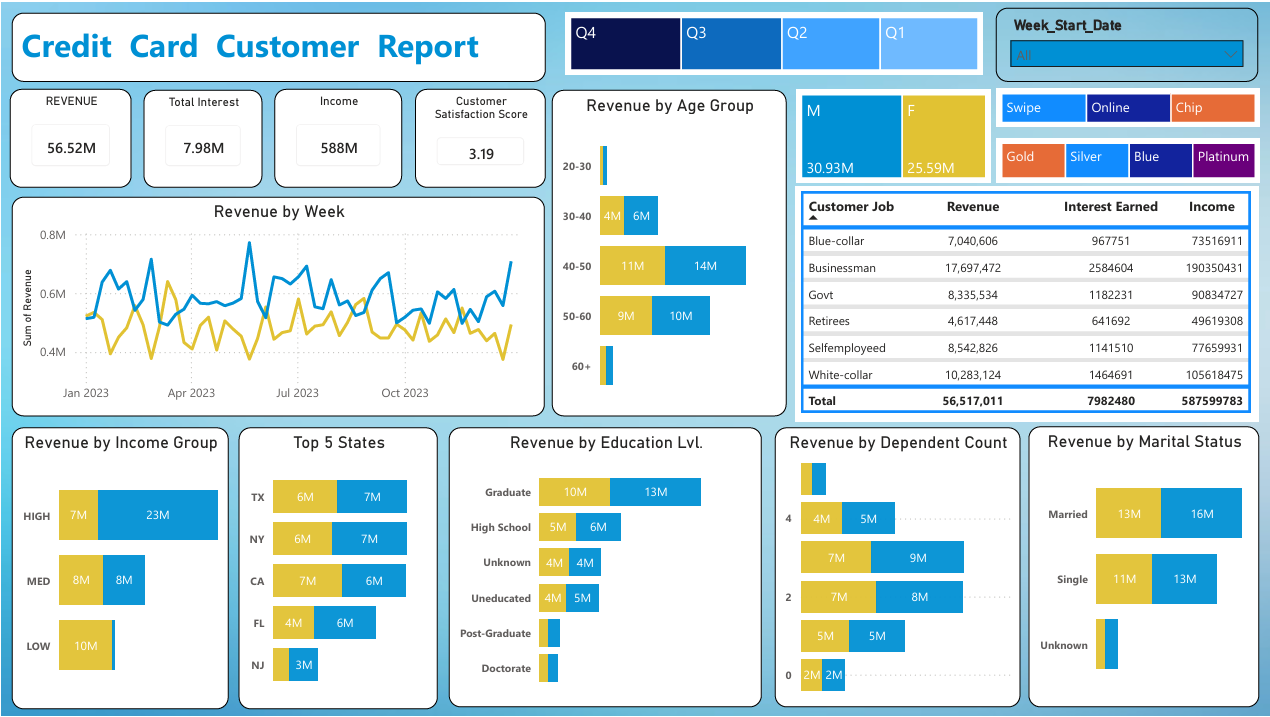

This screenshot's page, from the dashboard's own definition file:
{"tool":"powerbi","page":{"name":"Customer_Weekly_Report","canvas":[1280,720],"ordinal":1},"visuals":[{"type":"textbox","box":[10,10,538.6,70],"z":0},{"type":"barChart","title":"Revenue by Income Group","fields":{"Y":["Sum(public cc_detail.Revenue)"],"Category":["public cust_detail.IncomeGroup"],"Series":["public cust_detail.gender"]},"box":[10,428.8,218.8,285],"z":1000},{"type":"cardVisual","title":"REVENUE","fields":{"Data":["Sum(public cc_detail.Revenue)"]},"box":[8,87.3,122.7,99.3],"z":2000},{"type":"cardVisual","title":"Income","fields":{"Data":["Sum(public cust_detail.income)"]},"box":[275.3,87.3,128.7,99.3],"z":3000},{"type":"cardVisual","title":"Total Interest","fields":{"Data":["Sum(public cc_detail.interest_earned)"]},"box":[142.7,88,120,98.7],"z":4000},{"type":"cardVisual","title":"Customer Satisfaction Score","fields":{"Data":["Avg(public cust_detail.cust_satisfaction_score)"]},"box":[417.1,87.1,131.4,100],"z":5000},{"type":"slicer","fields":{"Values":["public cc_detail.WeekStartMonday"]},"box":[1003.3,5,265,75],"z":6000},{"type":"treemap","fields":{"Group":["public cc_detail.qtr"],"Values":["Avg(public cc_detail.client_num)"]},"box":[569.1,10,420.9,62.7],"z":7000},{"type":"treemap","fields":{"Group":["public cc_detail.use_chip"],"Values":["Avg(public cc_detail.client_num)"]},"box":[1002.5,87.5,266.7,39.2],"z":8000},{"type":"treemap","fields":{"Group":["public cc_detail.card_category"],"Values":["Avg(public cc_detail.client_num)"]},"box":[758.8,72.5,266.2,43.8],"z":9000},{"type":"tableEx","fields":{"Values":["public cust_detail.customer_job","Sum(public cc_detail.Revenue)","Sum(public cc_detail.interest_earned)","Sum(public cust_detail.income)"]},"box":[768,196,512,264],"z":10000},{"type":"lineChart","title":"Revenue by Week","fields":{"Y":["Sum(public cc_detail.Revenue)"],"Series":["public cust_detail.gender"],"Category":["public cc_detail.week_start_date.Variation.Date Hierarchy.Year","public cc_detail.week_start_date.Variation.Date Hierarchy.Quarter","public cc_detail.week_start_date.Variation.Date Hierarchy.Month","public cc_detail.week_start_date.Variation.Date Hierarchy.Day"]},"box":[9.8,196.3,538.7,222.1],"z":11000},{"type":"treemap","fields":{"Group":["public cust_detail.gender"],"Values":["Sum(public cc_detail.Revenue)"]},"box":[960,127.5,202.5,80],"z":12000},{"type":"barChart","title":"Revenue by Age Group","fields":{"Y":["Sum(public cc_detail.Revenue)"],"Category":["public cust_detail.AgeGroup"],"Series":["public cust_detail.gender"]},"box":[586,152,244,292],"z":13000},{"type":"barChart","title":"Revenue by Education Lvl.","fields":{"Y":["Sum(public cc_detail.Revenue)"],"Category":["public cust_detail.education_level"],"Series":["public cust_detail.gender"]},"box":[453.3,428.3,255,283.3],"z":14000},{"type":"barChart","title":"Revenue by Dependent Count","fields":{"Y":["Sum(public cc_detail.Revenue)"],"Category":["public cust_detail.dependent_count"],"Series":["public cust_detail.gender"]},"box":[730,428.8,230,283.8],"z":15000},{"type":"barChart","title":"Top 5 States","fields":{"Y":["Sum(public cc_detail.Revenue)"],"Category":["public cust_detail.state_cd"],"Series":["public cust_detail.gender"]},"box":[238.8,428.8,201.2,285],"z":16000},{"type":"barChart","title":"Revenue by Marital Status","fields":{"Y":["Sum(public cc_detail.Revenue)"],"Category":["public cust_detail.marital_status"],"Series":["public cust_detail.gender"]},"box":[978.8,428.8,223.8,285],"z":17000}]}

Visuals, with their boxes in screenshot pixels (x1, y1, x2, y2), scaled from the page's 1280x720 canvas onto the 1270x717 screenshot:
textbox: x1=10, y1=10, x2=544, y2=80
"Revenue by Income Group" barChart: x1=10, y1=427, x2=227, y2=711
"REVENUE" cardVisual: x1=8, y1=87, x2=130, y2=186
"Income" cardVisual: x1=273, y1=87, x2=401, y2=186
"Total Interest" cardVisual: x1=142, y1=88, x2=261, y2=186
"Customer Satisfaction Score" cardVisual: x1=414, y1=87, x2=544, y2=186
slicer - public cc_detail.WeekStartMonday: x1=995, y1=5, x2=1258, y2=80
treemap - public cc_detail.qtr x Avg(public cc_detail.client_num): x1=565, y1=10, x2=982, y2=72
treemap - public cc_detail.use_chip x Avg(public cc_detail.client_num): x1=995, y1=87, x2=1259, y2=126
treemap - public cc_detail.card_category x Avg(public cc_detail.client_num): x1=753, y1=72, x2=1017, y2=116
tableEx - public cust_detail.customer_job x Sum(public cc_detail.Revenue): x1=762, y1=195, x2=1269, y2=458
"Revenue by Week" lineChart: x1=10, y1=195, x2=544, y2=417
treemap - public cust_detail.gender x Sum(public cc_detail.Revenue): x1=952, y1=127, x2=1153, y2=207
"Revenue by Age Group" barChart: x1=581, y1=151, x2=824, y2=442
"Revenue by Education Lvl." barChart: x1=450, y1=427, x2=703, y2=709
"Revenue by Dependent Count" barChart: x1=724, y1=427, x2=952, y2=710
"Top 5 States" barChart: x1=237, y1=427, x2=437, y2=711
"Revenue by Marital Status" barChart: x1=971, y1=427, x2=1193, y2=711
